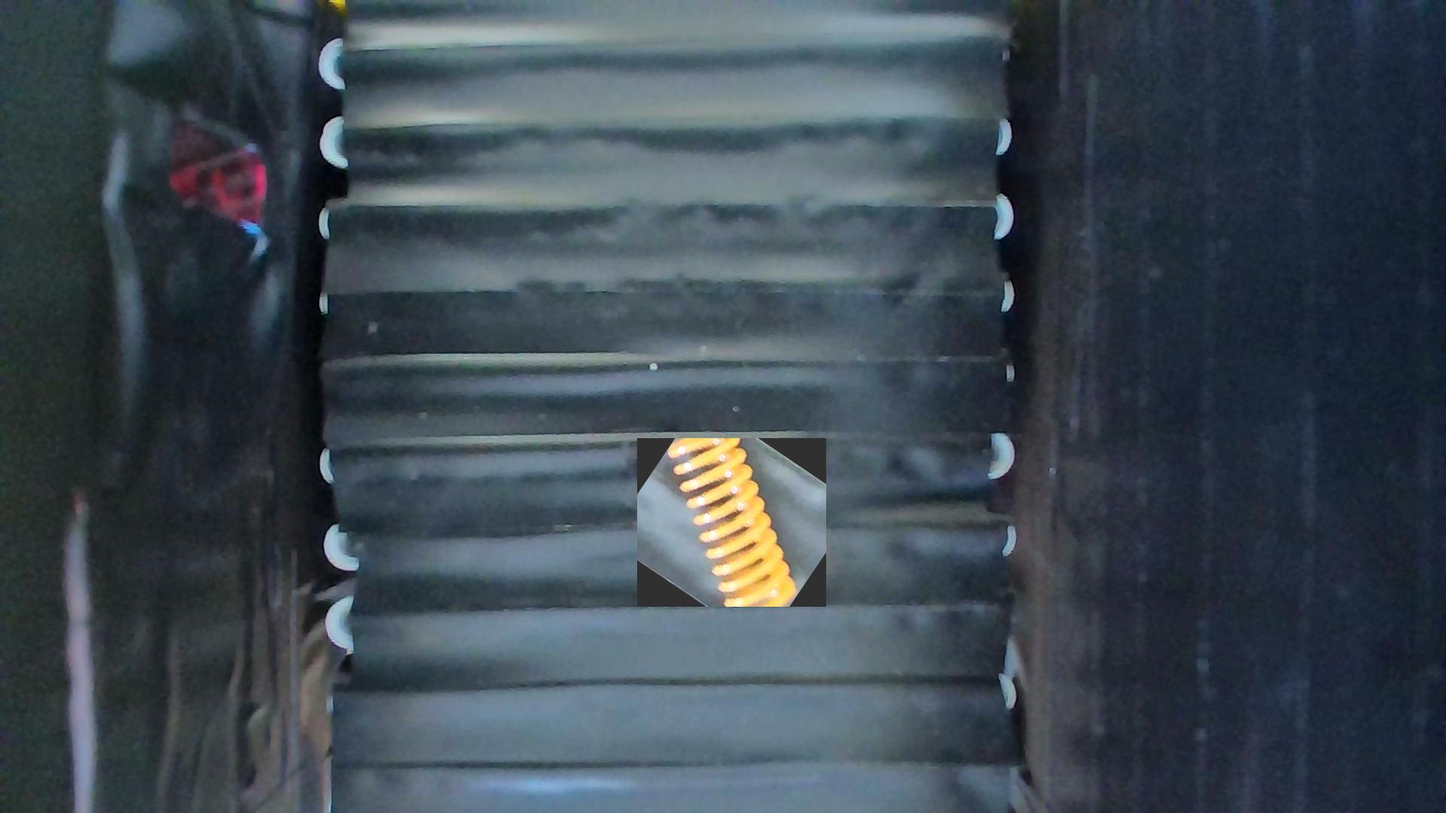spring: (637, 438, 826, 607)
